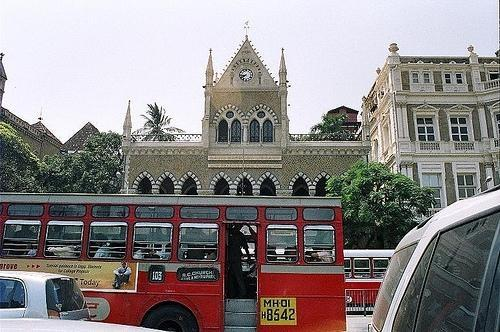bus: (1, 191, 347, 331), (346, 249, 398, 314)
car: (368, 184, 500, 332), (0, 270, 92, 322), (0, 317, 170, 332)
